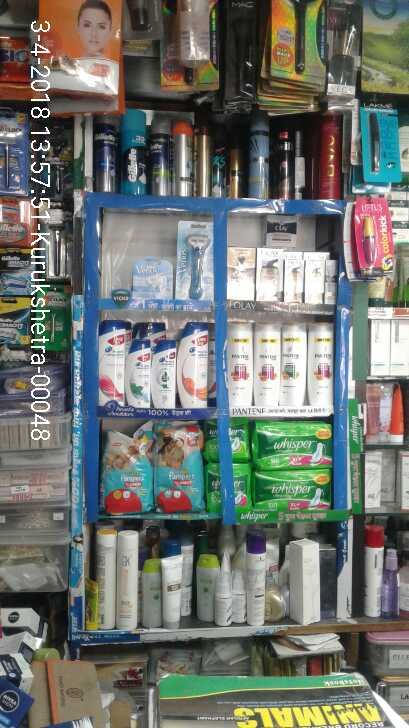gillete: (30, 114, 71, 198), (1, 109, 28, 194), (37, 207, 68, 277), (92, 116, 120, 192), (121, 111, 146, 193), (149, 116, 173, 196), (1, 247, 37, 289), (1, 196, 31, 242), (1, 298, 31, 342)
venus: (175, 221, 215, 300), (132, 256, 175, 298)
